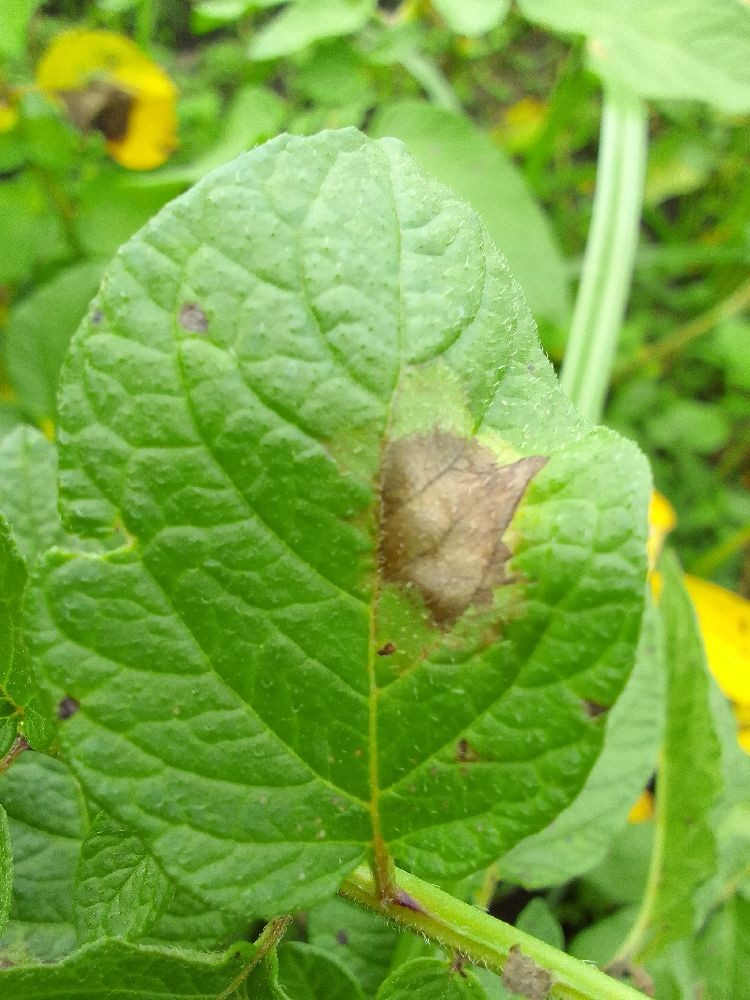late_blight: (356, 414, 562, 647), (51, 70, 186, 180), (479, 18, 579, 116), (699, 412, 750, 502)
